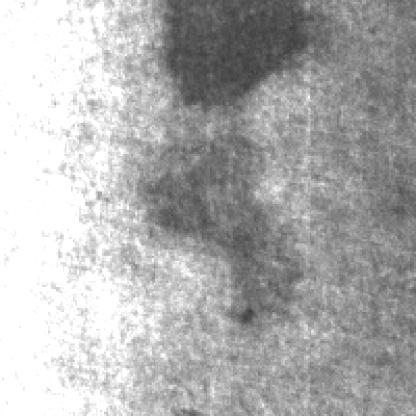patches: (165, 127, 292, 312), (160, 0, 312, 106)
